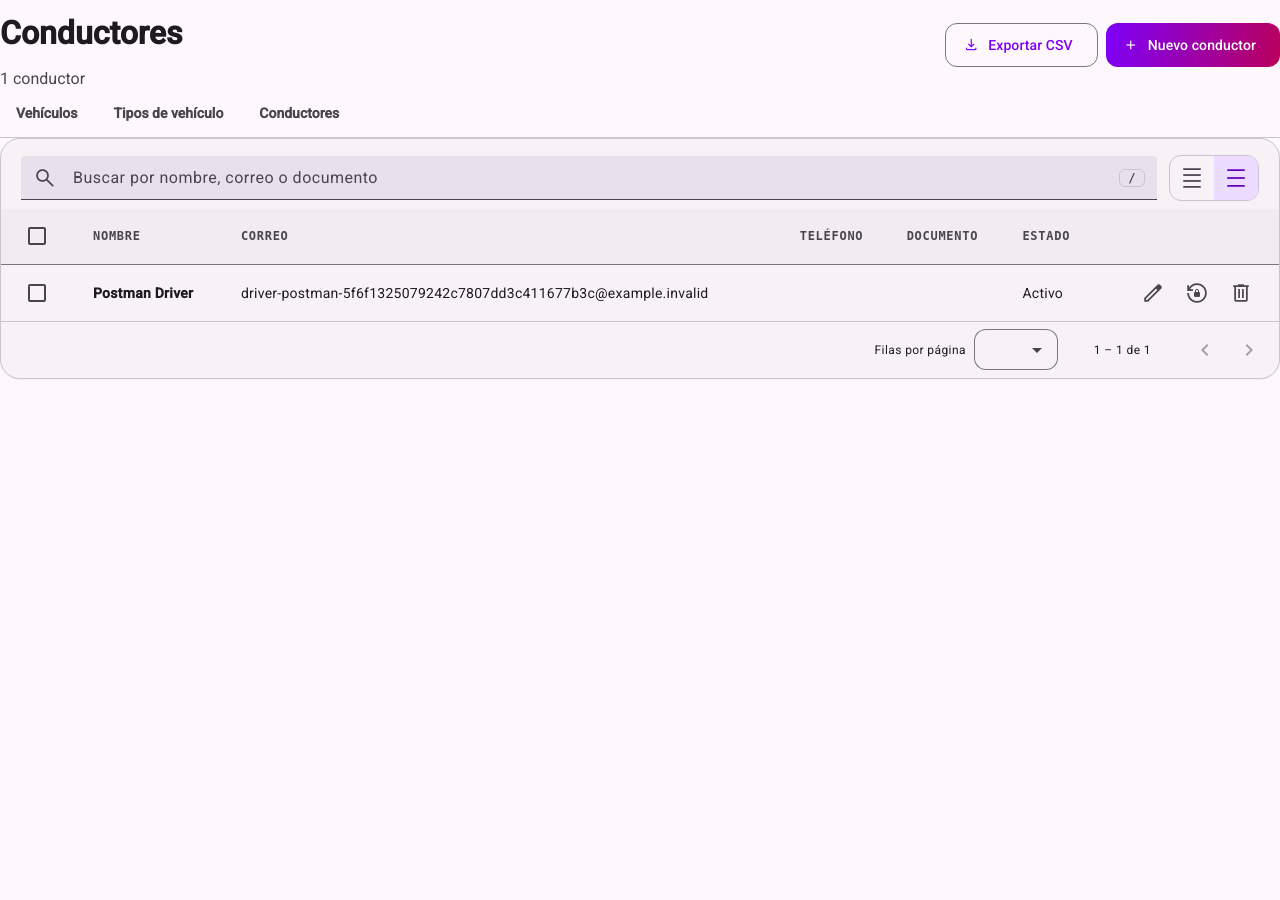
Test case: DriverListComponent › un conductor asignado a un vehículo (409) no se borra y se explica por qué
Click the button named "Eliminar conductor Postman Driver". click: (1241,293)
box: [1219,271,1263,315]
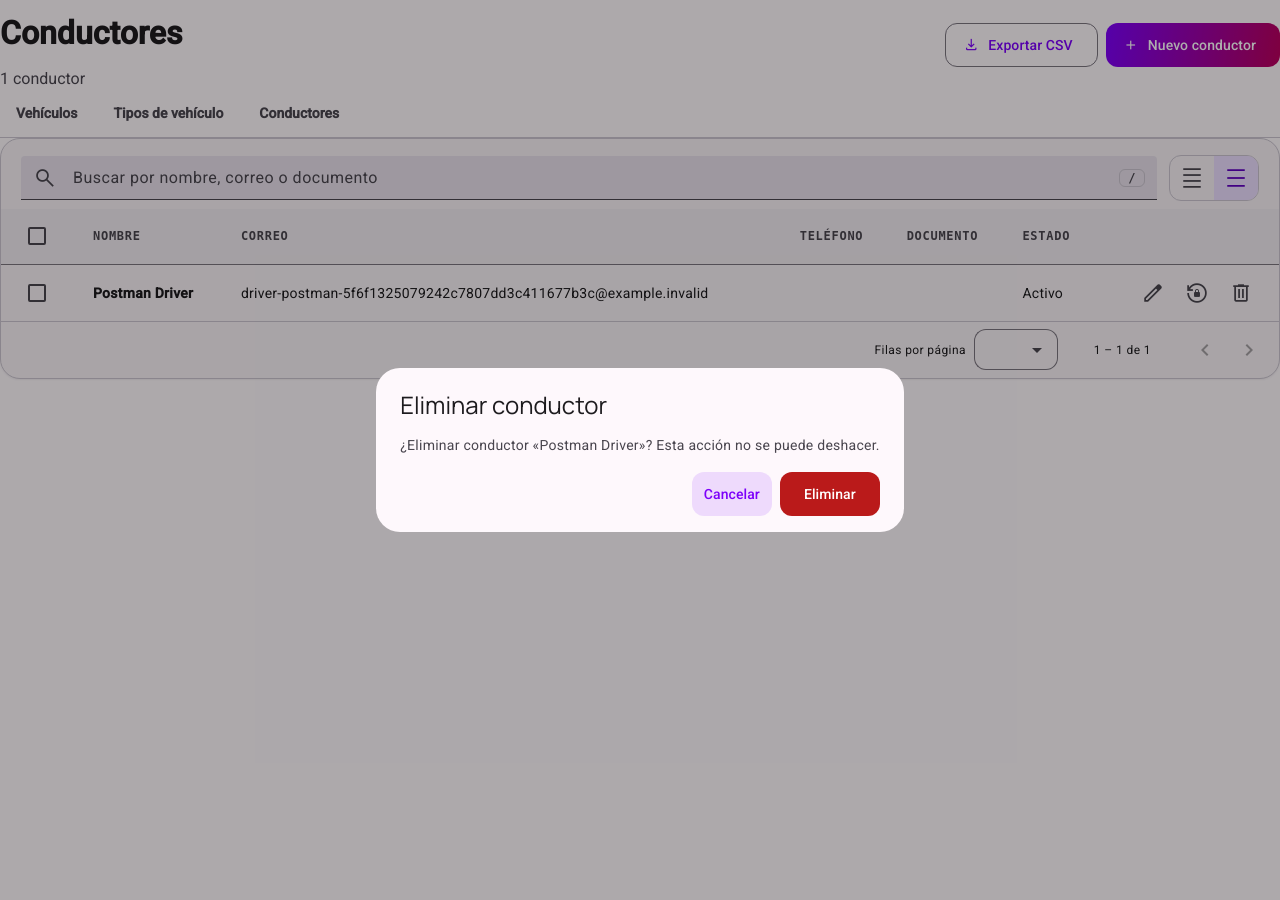
Click the button "Eliminar". click: (830,494)
box: [780,472,880,516]
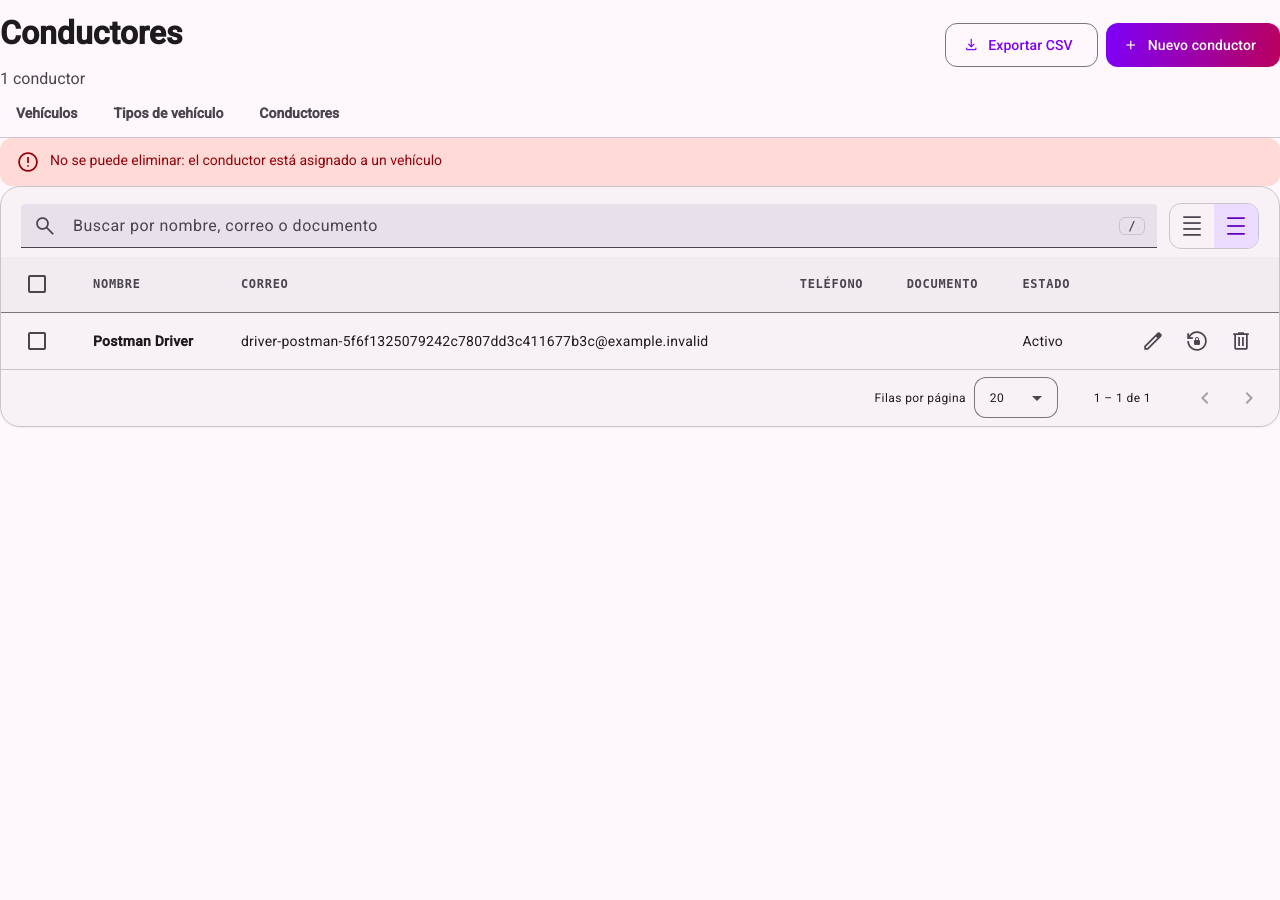
expect the message "No se puede eliminar: el conductor está asignado a un vehículo" is shown: met, box [0,138,1279,186]
